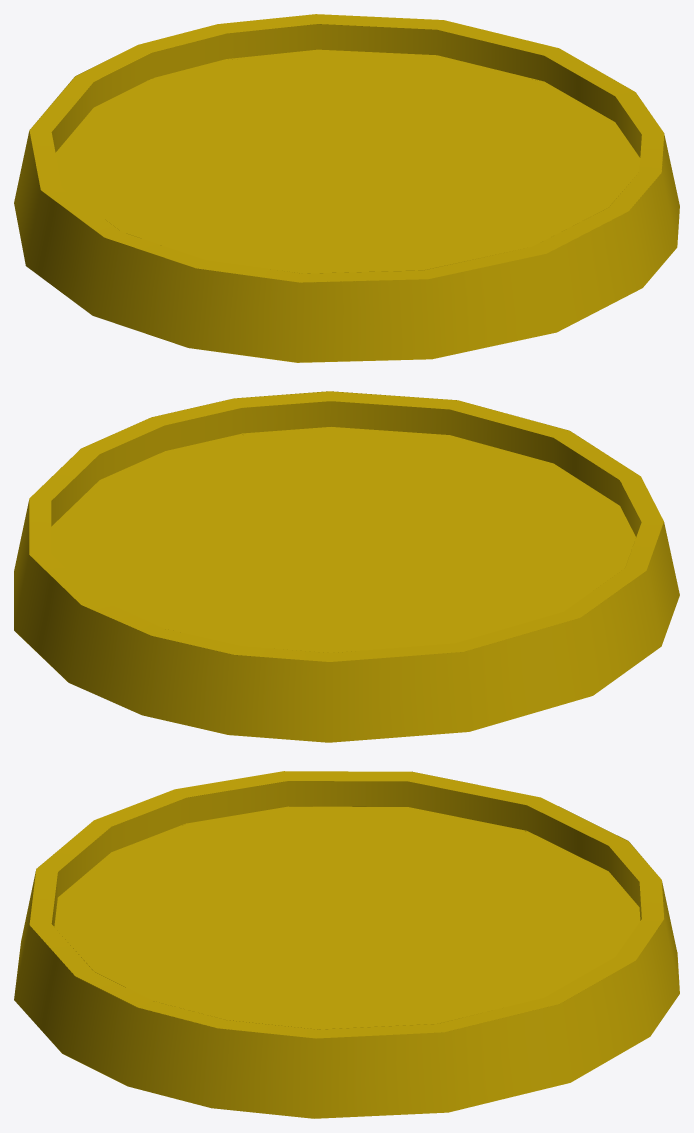
File: original_12.obj
The picture shows the model from 3 angles, top to bottom: view 1: azimuth 30°, elevation 25°; view 2: azimuth 150°, elevation 25°; view 3: azimuth 270°, elevation 25°; orthographic projection.
Visible parts, largest first — view 1: group_4/ID50#ID50; view 2: group_4/ID50#ID50; view 3: group_4/ID50#ID50.
Boxes of the visible parts, x1,y1,x2,y2 form: group_4/ID50#ID50: (14,14,679,362); group_4/ID50#ID50: (14,391,679,742); group_4/ID50#ID50: (14,771,679,1118).
Bounding box in the file's own units: 0.7274 × 0.0895 × 0.7302.
